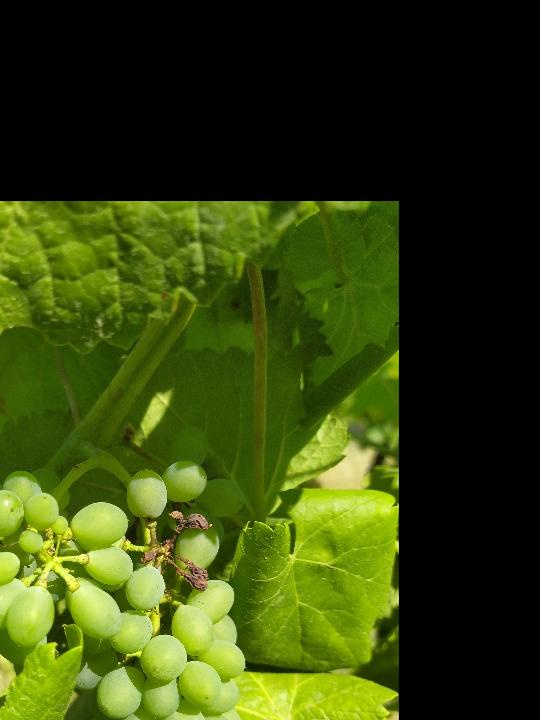grape: (0, 425, 255, 720), (318, 716, 397, 720)
